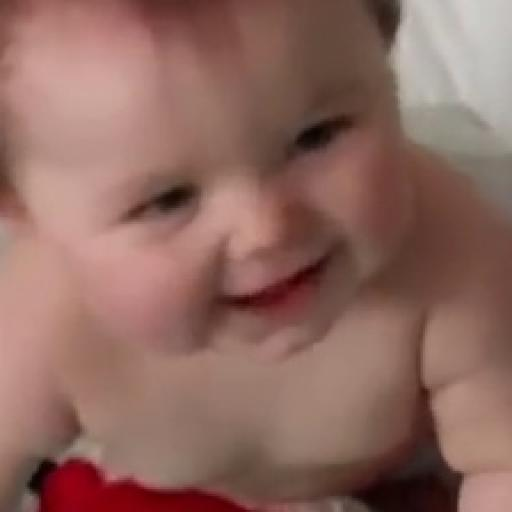Autism: (23, 30, 430, 373)
